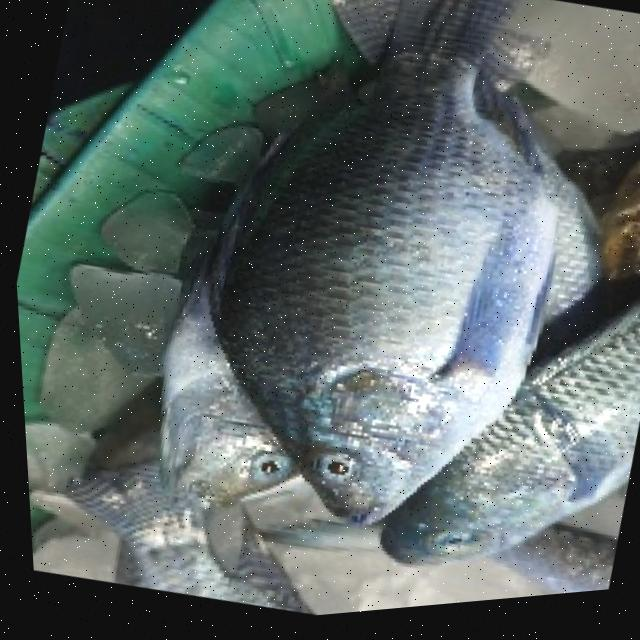Fresh: (163, 80, 592, 570)
